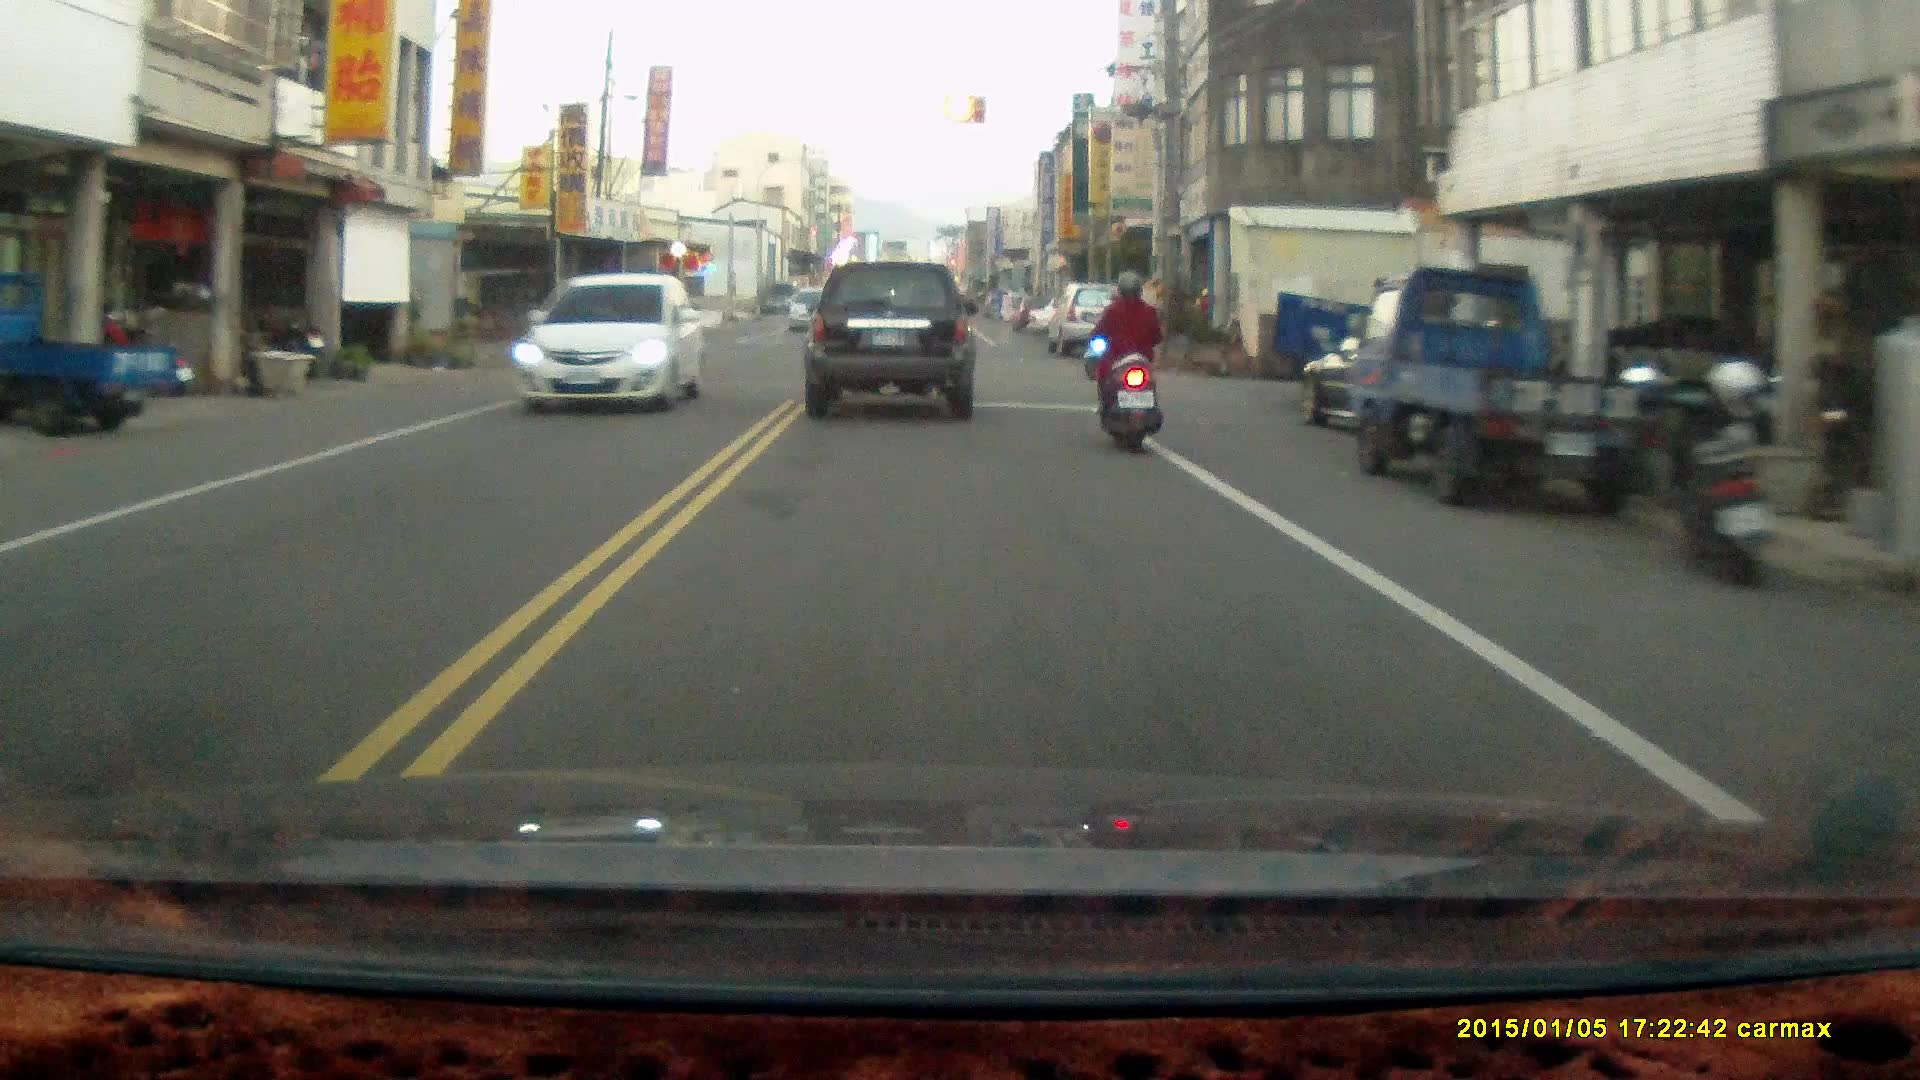rider: (1090, 265, 1163, 454)
vehicle: (1345, 260, 1670, 517), (1, 267, 203, 431), (801, 259, 982, 426), (1271, 274, 1477, 415), (515, 273, 707, 417), (1301, 326, 1515, 441), (1046, 276, 1143, 358)
